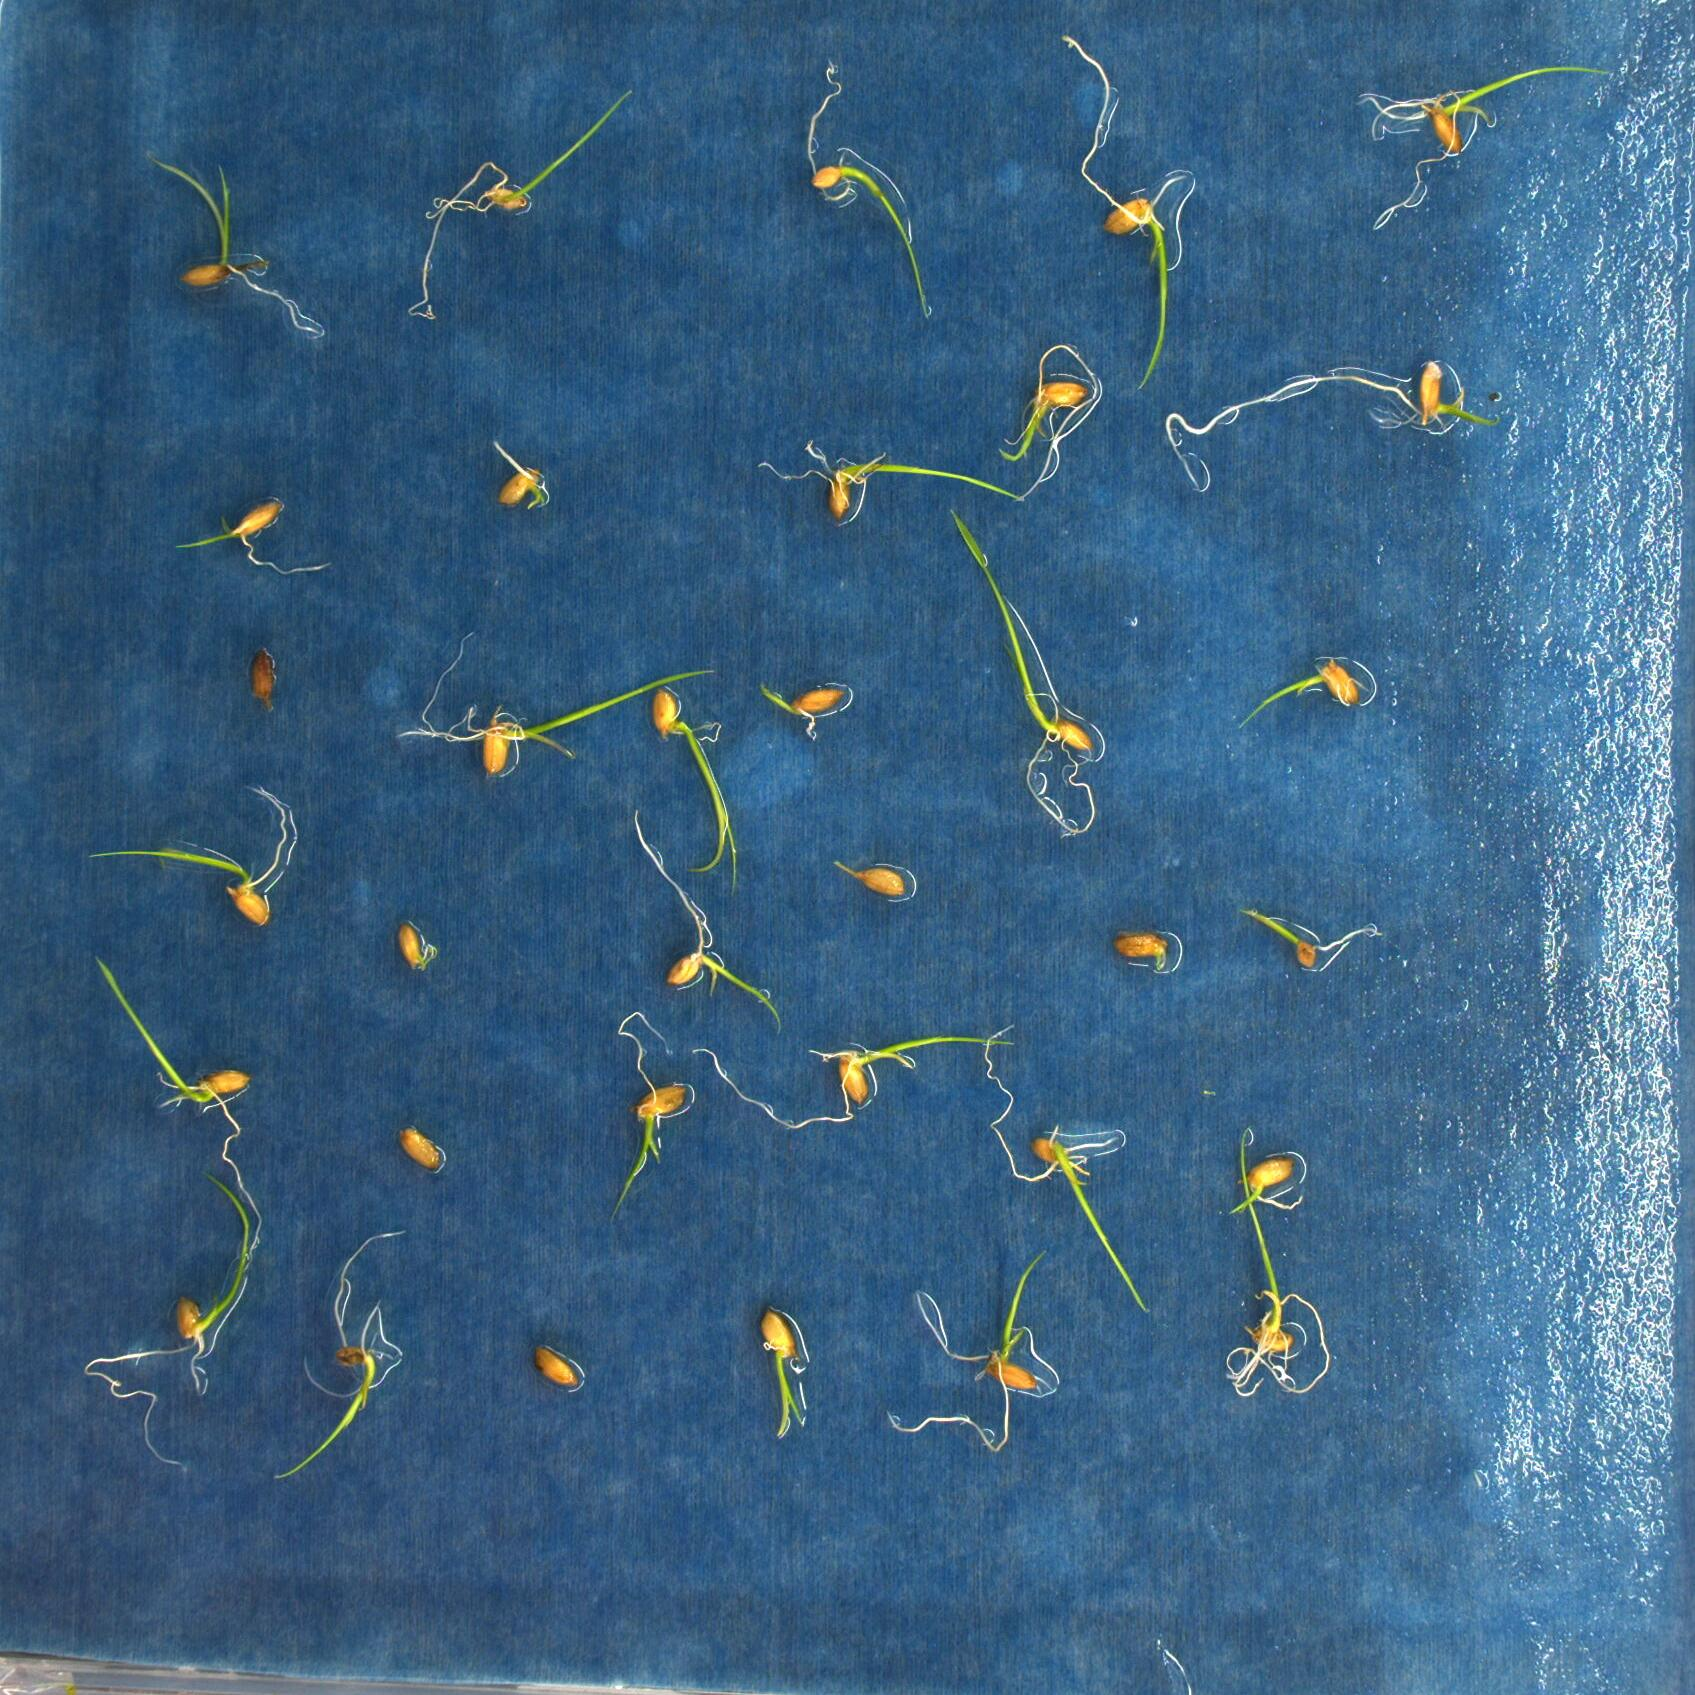not sprout: (492, 439, 546, 512), (830, 855, 908, 903), (393, 1124, 449, 1177), (394, 914, 441, 976), (247, 646, 281, 716), (531, 1346, 584, 1391)
sprout: (81, 1167, 256, 1492), (947, 504, 1110, 841), (404, 87, 633, 324), (981, 1020, 1155, 1324), (396, 629, 716, 781), (1352, 56, 1613, 236), (88, 948, 262, 1217), (1159, 355, 1503, 489), (1059, 29, 1183, 390), (799, 56, 942, 331), (632, 806, 785, 1040), (269, 1229, 408, 1484), (883, 1246, 1052, 1453), (691, 1028, 1014, 1133), (151, 151, 324, 343), (88, 782, 300, 927), (1225, 1128, 1329, 1403), (756, 432, 1029, 525), (647, 685, 742, 894), (607, 1012, 688, 1226), (168, 492, 338, 577), (998, 369, 1097, 503), (1232, 657, 1367, 734), (1236, 903, 1381, 973), (759, 1305, 807, 1440), (754, 674, 844, 740), (1226, 1152, 1309, 1217), (1108, 927, 1170, 976)
